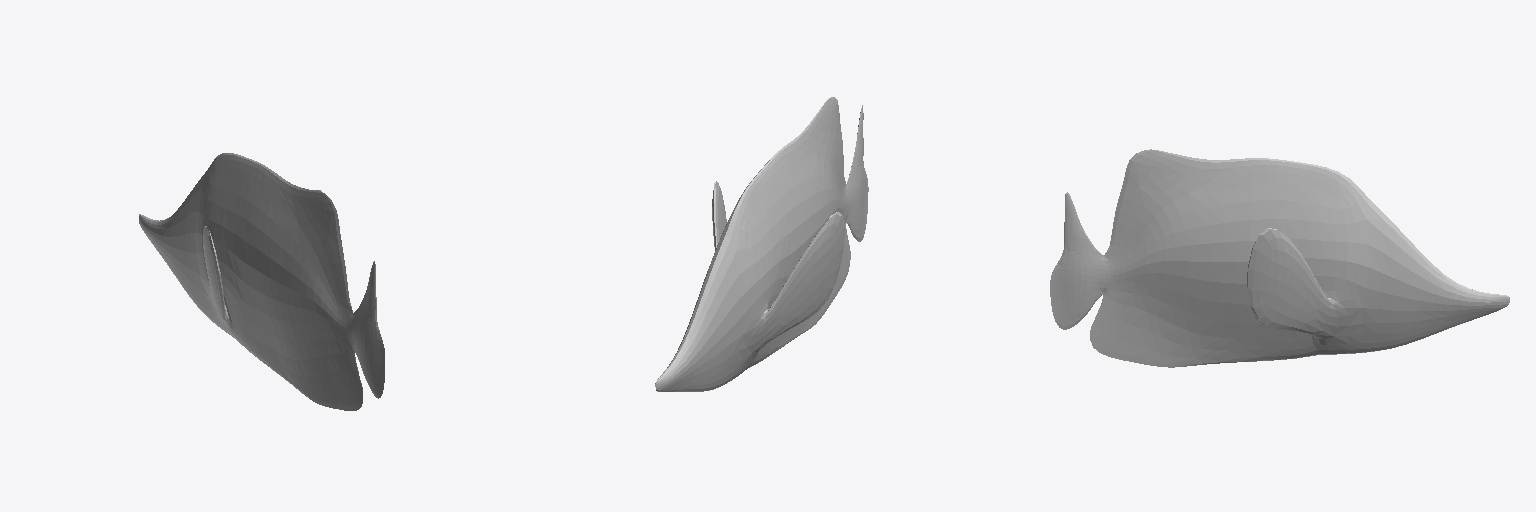
Rendered from yellowanglefish1newanimb.obj.
The picture shows the model from 3 angles: view 1: azimuth 30°, elevation 25°; view 2: azimuth 150°, elevation 25°; view 3: azimuth 270°, elevation 25°; orthographic projection.
Parts seen in each view (by area): view 1: Plane; view 2: Plane; view 3: Plane.
Part boxes in pixels (bbox=[...]): Plane: bbox=[139, 153, 384, 410]; Plane: bbox=[655, 97, 868, 391]; Plane: bbox=[1050, 149, 1509, 367].
Size of the model in its own units: 1.73 by 2.96 by 5.67.